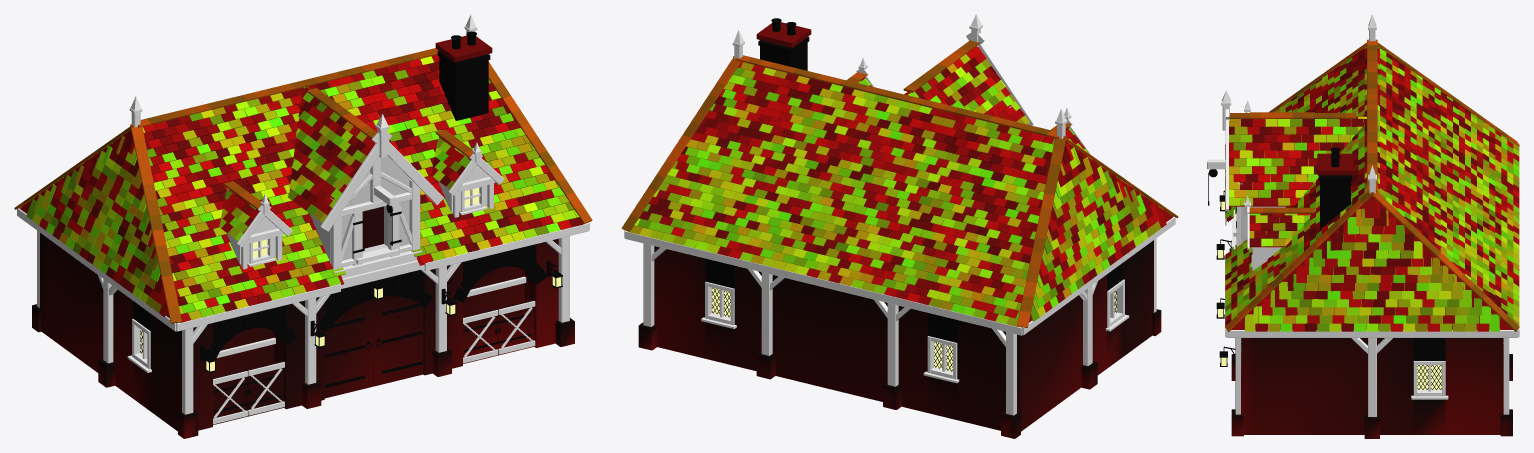
Rendered from SilverbrookStables.fbx.
3 views of the same model, side by side, from view 1: azimuth 30°, elevation 25°; view 2: azimuth 150°, elevation 25°; view 3: azimuth 270°, elevation 25° (orthographic). The views are drawn at different scales.
Visible parts, largest first — view 1: SM_SBStables_Roof, SM_SBStables_Masonry, SM_SBStables_Timber, SM_SBStables_Details, SM_SBStables_Plaster; view 2: SM_SBStables_Roof, SM_SBStables_Masonry, SM_SBStables_Timber, SM_SBStables_Details; view 3: SM_SBStables_Roof, SM_SBStables_Masonry, SM_SBStables_Timber, SM_SBStables_Details.
Boxes of the visible parts, left/top/right/bottom form: SM_SBStables_Roof: left=14, top=48, right=592, bottom=323; SM_SBStables_Masonry: left=32, top=35, right=574, bottom=438; SM_SBStables_Timber: left=17, top=14, right=589, bottom=424; SM_SBStables_Details: left=140, top=31, right=562, bottom=424; SM_SBStables_Plaster: left=309, top=156, right=410, bottom=263; SM_SBStables_Roof: left=621, top=40, right=1178, bottom=327; SM_SBStables_Masonry: left=638, top=22, right=1161, bottom=438; SM_SBStables_Timber: left=624, top=14, right=1175, bottom=415; SM_SBStables_Details: left=711, top=18, right=1117, bottom=371; SM_SBStables_Roof: left=1225, top=39, right=1519, bottom=331; SM_SBStables_Masonry: left=1231, top=153, right=1512, bottom=438; SM_SBStables_Timber: left=1207, top=14, right=1519, bottom=416; SM_SBStables_Details: left=1208, top=147, right=1441, bottom=389.
Bounding box in the file's own units: 1096 × 697 × 763.
